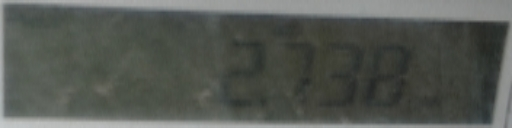1: (327, 33, 357, 113)
2: (222, 31, 262, 108)
7: (277, 31, 321, 116)
8: (367, 33, 413, 116)
d: (256, 93, 272, 114)
